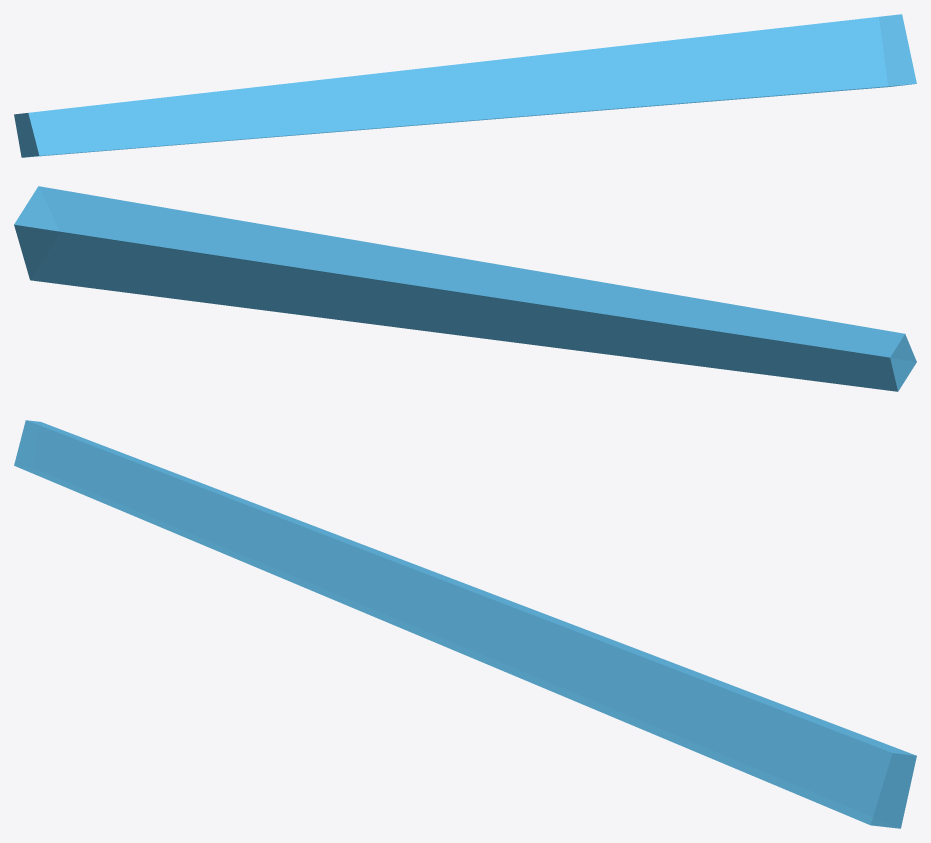
Rendered from Event_420107950_HErechit_35.fbx.
3 views of the same model, one above another, from view 1: azimuth 30°, elevation 25°; view 2: azimuth 150°, elevation 25°; view 3: azimuth 330°, elevation 25° (orthographic). The views are drawn at different scales.
Visible parts, largest first — view 1: Model; view 2: Model; view 3: Model.
Boxes of the visible parts, box(x1,y1,x2,y2) form: Model: box(14, 14, 916, 157); Model: box(14, 186, 916, 391); Model: box(14, 420, 916, 828).
Size of the model in its own units: 6.27 by 1.19 by 0.769.
